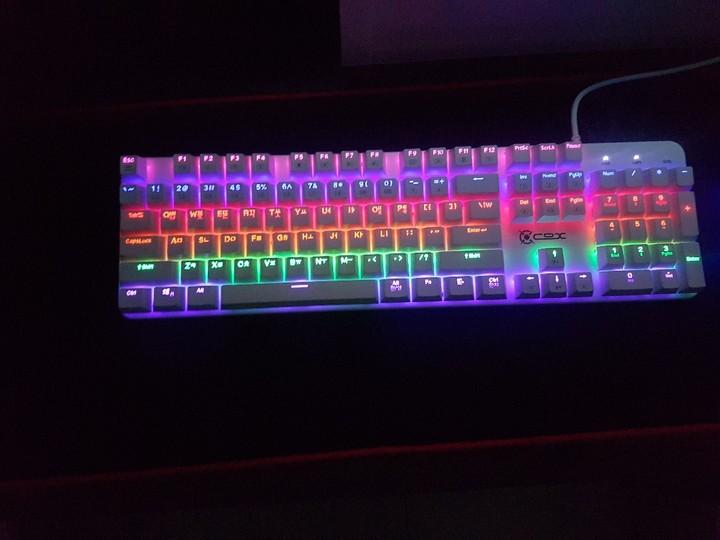keyboard: (116, 139, 706, 319)
